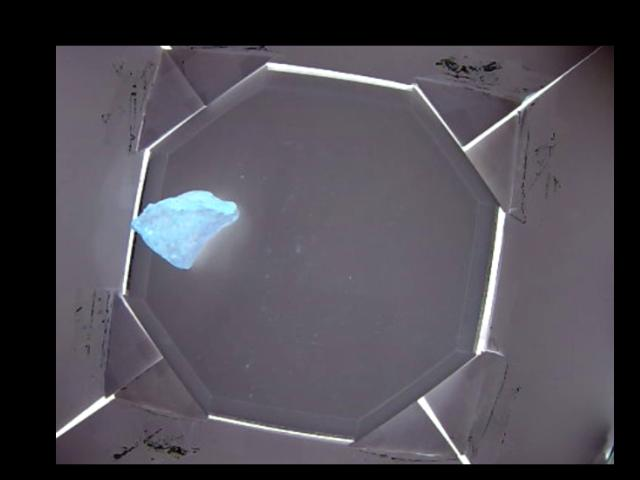Brisk: (130, 188, 237, 268)
